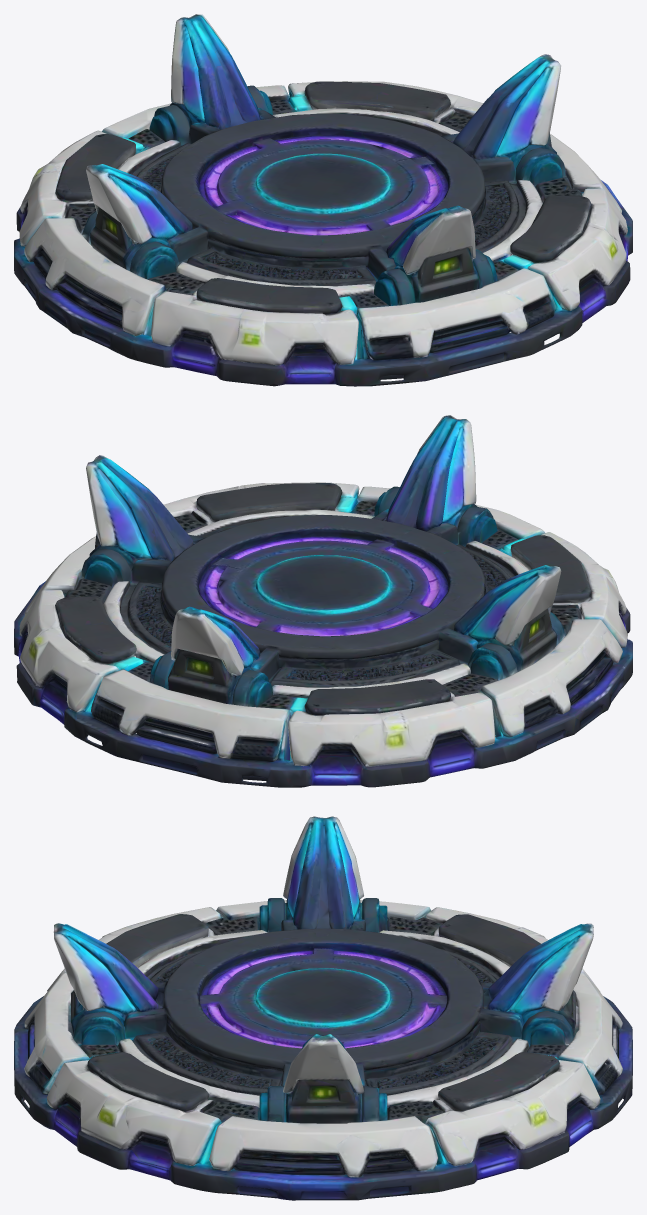
The model's file is model-21-launch-pad.glb.
The picture shows the model from 3 angles, top to bottom: view 1: azimuth 30°, elevation 25°; view 2: azimuth 150°, elevation 25°; view 3: azimuth 270°, elevation 25°; orthographic projection.
Visible parts, largest first — view 1: node_0; view 2: node_0; view 3: node_0.
Part boxes in pixels (x1,y1,x2,y2): node_0: (14,14,632,386); node_0: (14,415,632,787); node_0: (14,816,632,1200).
Bounding box in the file's own units: 1.15 × 0.2938 × 1.15.
Materials: 1 (1 with a texture image).
